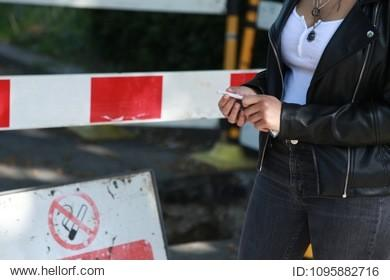Cigarette: (216, 90, 242, 98)
